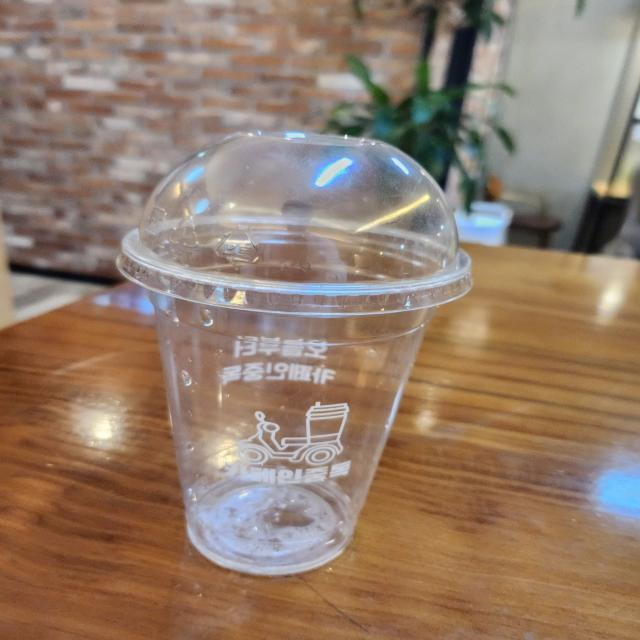plastic_cup_lid: (114, 115, 486, 332)
